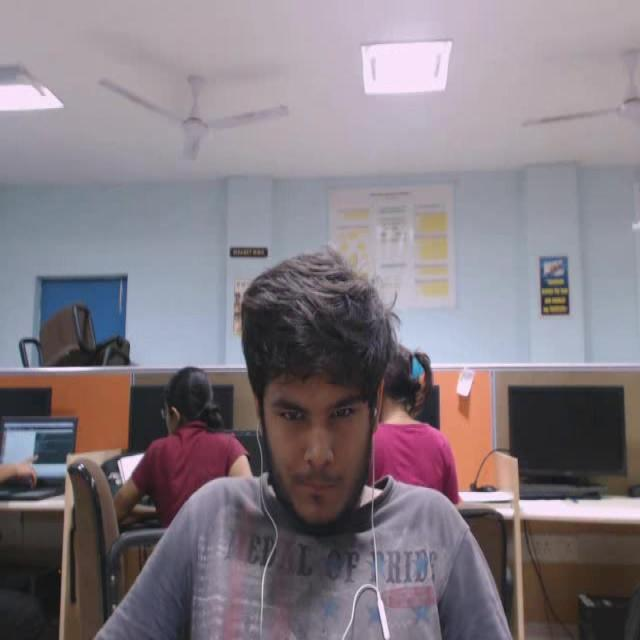Engaged: (228, 239, 412, 568)
